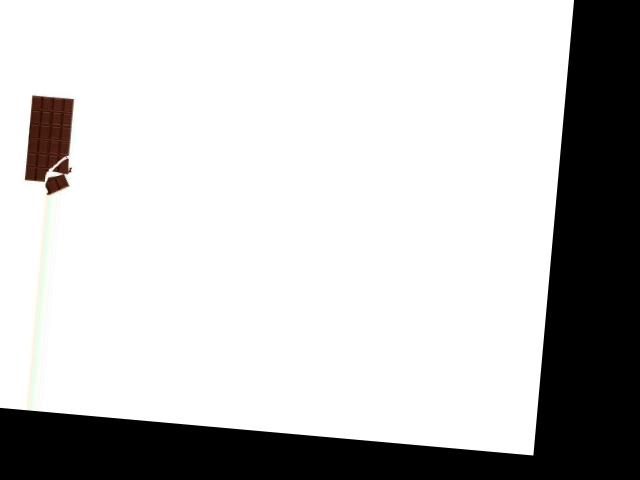chocolate: (16, 93, 87, 198)
